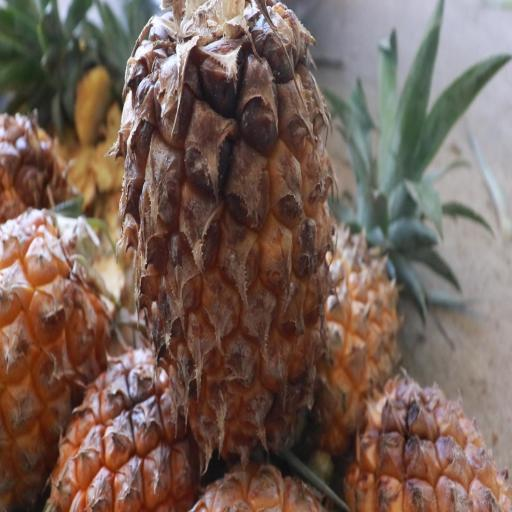Pineapple - v8 v1: (112, 1, 334, 466), (0, 194, 126, 512), (287, 204, 408, 474), (38, 337, 202, 512), (342, 368, 512, 512)
